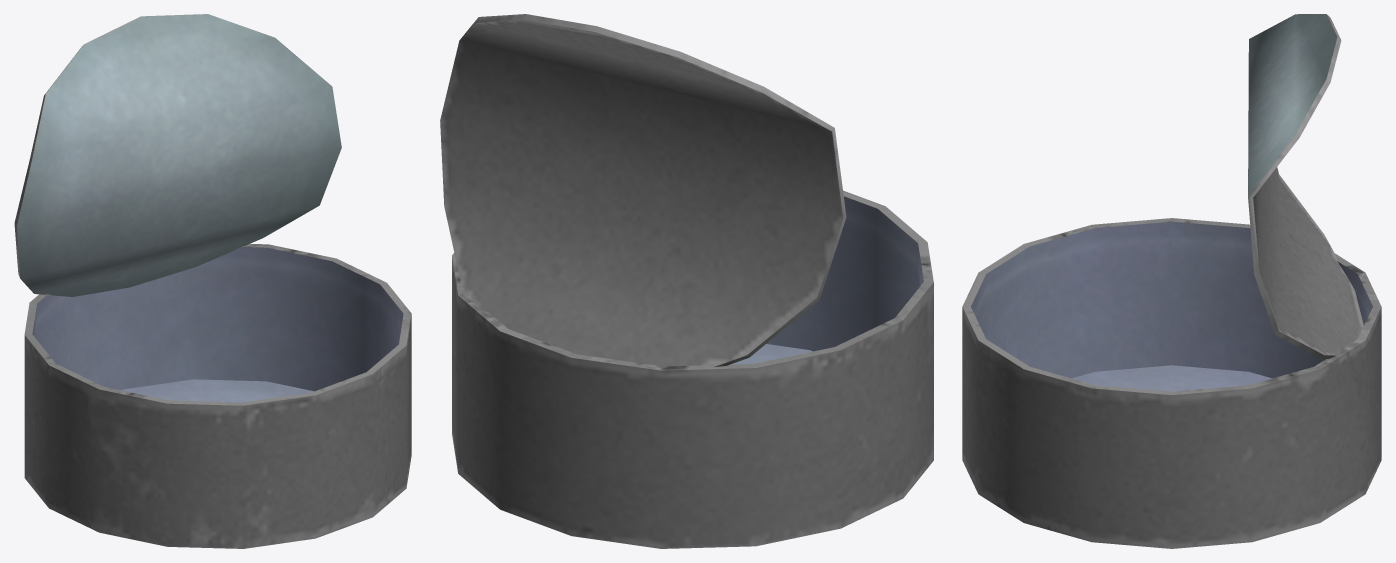
File: Can_2_Opened.fbx
The picture shows the model from 3 angles, left to right: view 1: azimuth 30°, elevation 25°; view 2: azimuth 150°, elevation 25°; view 3: azimuth 270°, elevation 25°; orthographic projection. The views are drawn at different scales.
Visible parts, largest first — view 1: Can_2_Opened; view 2: Can_2_Opened; view 3: Can_2_Opened.
Part boxes in pixels (left/top/right/bottom): Can_2_Opened: left=14, top=14, right=411, bottom=548; Can_2_Opened: left=440, top=14, right=933, bottom=548; Can_2_Opened: left=962, top=14, right=1381, bottom=548.
Bounding box in the file's own units: 0.1129 × 0.1259 × 0.1129.
